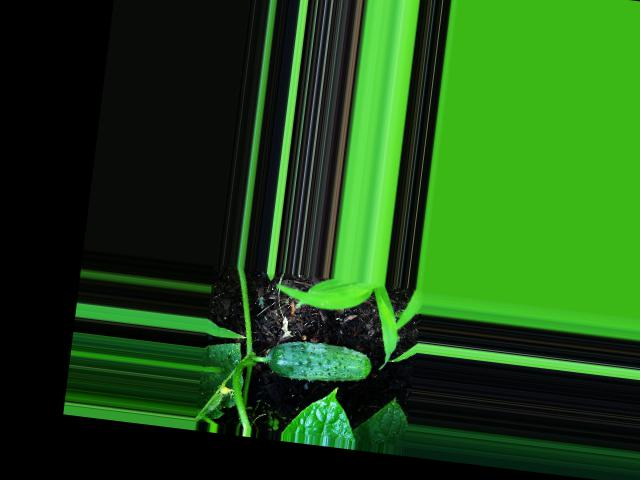cucumber: (265, 336, 375, 387)
